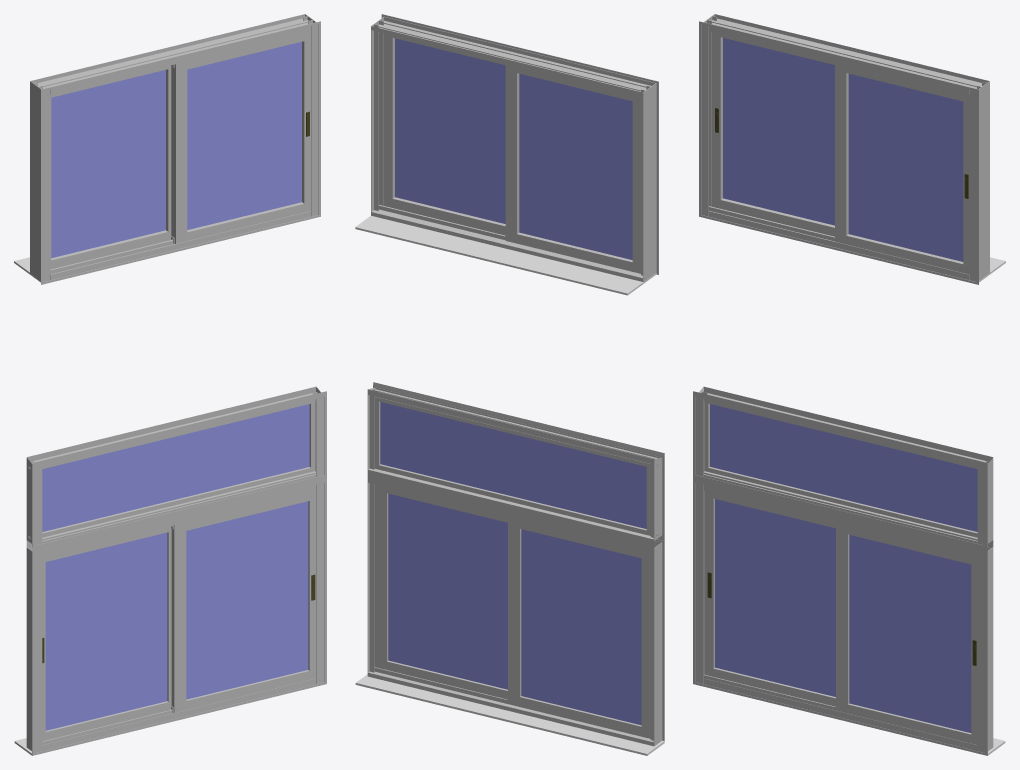
File: Windows.fbx
The picture shows the model from 3 angles, left to right: view 1: azimuth 30°, elevation 25°; view 2: azimuth 150°, elevation 25°; view 3: azimuth 330°, elevation 25°; orthographic projection.
Visible parts, largest first — view 1: WindowFrame.001, WindowFrame; view 2: WindowFrame.001, WindowFrame; view 3: WindowFrame.001, WindowFrame.
Part boxes in pixels (x1,y1,x2,y2): WindowFrame.001: (42, 41, 309, 730); WindowFrame: (14, 14, 326, 755); WindowFrame.001: (380, 38, 646, 725); WindowFrame: (355, 14, 664, 755); WindowFrame.001: (710, 38, 977, 732); WindowFrame: (693, 14, 1005, 755).
Bounding box in the file's own units: 212 × 459 × 36.61.
